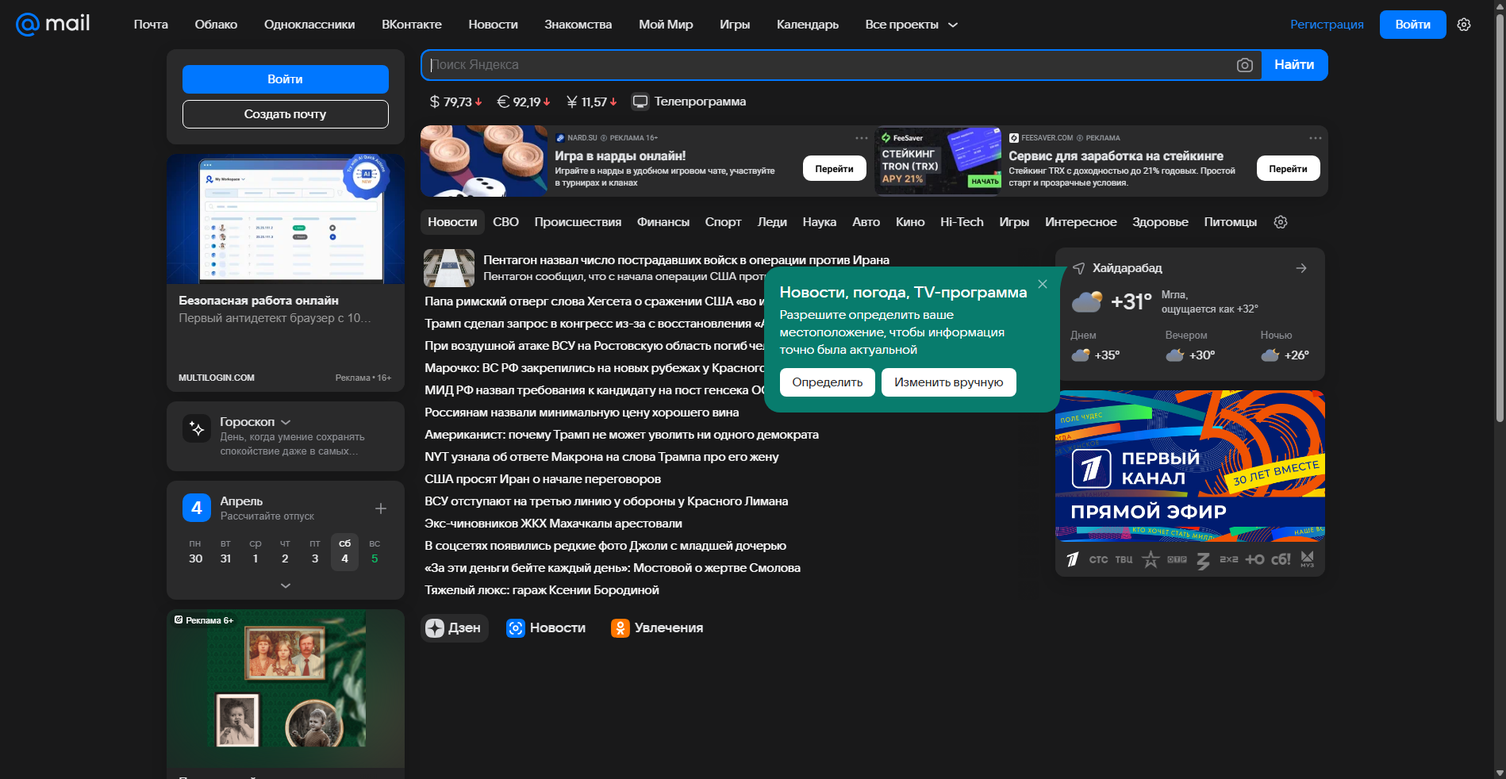general_button: (182, 65, 388, 94), (182, 100, 388, 129), (882, 368, 1016, 397), (853, 10, 973, 39), (606, 614, 711, 643), (780, 368, 875, 397), (501, 614, 594, 643), (1380, 10, 1446, 39), (1055, 248, 1093, 286), (420, 209, 452, 235), (1265, 209, 1297, 235), (1087, 548, 1110, 570), (1113, 548, 1136, 570), (1061, 548, 1083, 570), (1140, 548, 1162, 570), (1166, 548, 1188, 570), (1192, 548, 1214, 570), (1218, 548, 1240, 570), (1244, 548, 1266, 570), (1270, 548, 1292, 570), (1296, 548, 1318, 570), (373, 499, 388, 518)
general_dropdown: (277, 578, 293, 593)
general_image: (207, 154, 365, 313), (207, 609, 365, 768), (423, 249, 474, 287), (16, 13, 90, 36), (1071, 286, 1103, 318), (1165, 346, 1185, 365), (1071, 346, 1090, 365), (1261, 346, 1280, 365), (174, 160, 182, 168), (174, 616, 182, 624)
general_link: (166, 154, 404, 392), (1055, 390, 1325, 542), (166, 609, 404, 779), (420, 248, 1039, 289), (1055, 319, 1325, 381), (166, 401, 404, 471), (1055, 286, 1325, 319), (420, 314, 833, 333), (420, 292, 832, 311), (420, 558, 801, 578), (420, 425, 819, 444), (420, 359, 813, 378), (1093, 248, 1287, 286), (420, 336, 796, 355), (420, 492, 788, 511), (420, 536, 786, 555), (420, 381, 779, 400), (420, 447, 779, 466), (420, 403, 739, 422), (182, 493, 373, 524), (420, 514, 682, 533), (420, 470, 661, 489), (420, 581, 659, 600), (252, 10, 368, 39), (16, 3, 90, 46), (1278, 10, 1377, 39), (532, 10, 625, 39), (527, 209, 629, 235), (764, 10, 851, 39), (369, 10, 454, 39), (626, 10, 706, 39), (1037, 209, 1125, 235), (631, 92, 746, 111), (456, 10, 531, 39), (420, 614, 489, 643), (182, 10, 250, 39), (1125, 209, 1196, 235), (1196, 209, 1265, 235), (629, 209, 697, 235), (121, 10, 181, 39), (420, 209, 485, 235), (707, 10, 763, 39), (933, 209, 992, 235), (1287, 248, 1325, 286), (697, 209, 750, 235), (795, 209, 845, 235), (750, 209, 795, 235), (888, 209, 933, 235), (992, 209, 1037, 235), (220, 496, 314, 508), (845, 209, 888, 235), (485, 209, 527, 235), (182, 533, 210, 571), (301, 533, 329, 571), (331, 533, 359, 571), (212, 533, 239, 571), (242, 533, 269, 571), (272, 533, 299, 571), (361, 533, 388, 571), (426, 93, 483, 110), (496, 93, 552, 110), (564, 93, 618, 110), (174, 160, 182, 168), (174, 616, 182, 624)
icon_close: (1034, 276, 1050, 294), (385, 157, 401, 173), (385, 612, 401, 628), (392, 159, 395, 171), (392, 615, 395, 626)
icon_search: (1261, 49, 1328, 81)
